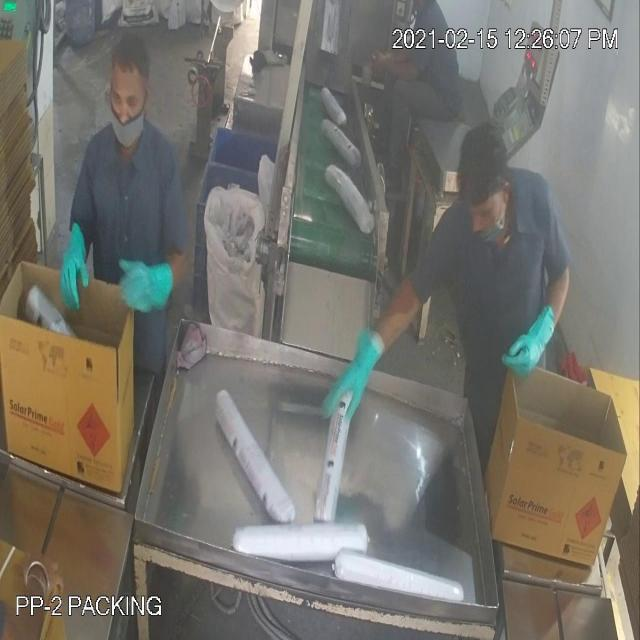Gloves: (47, 40, 525, 374)
